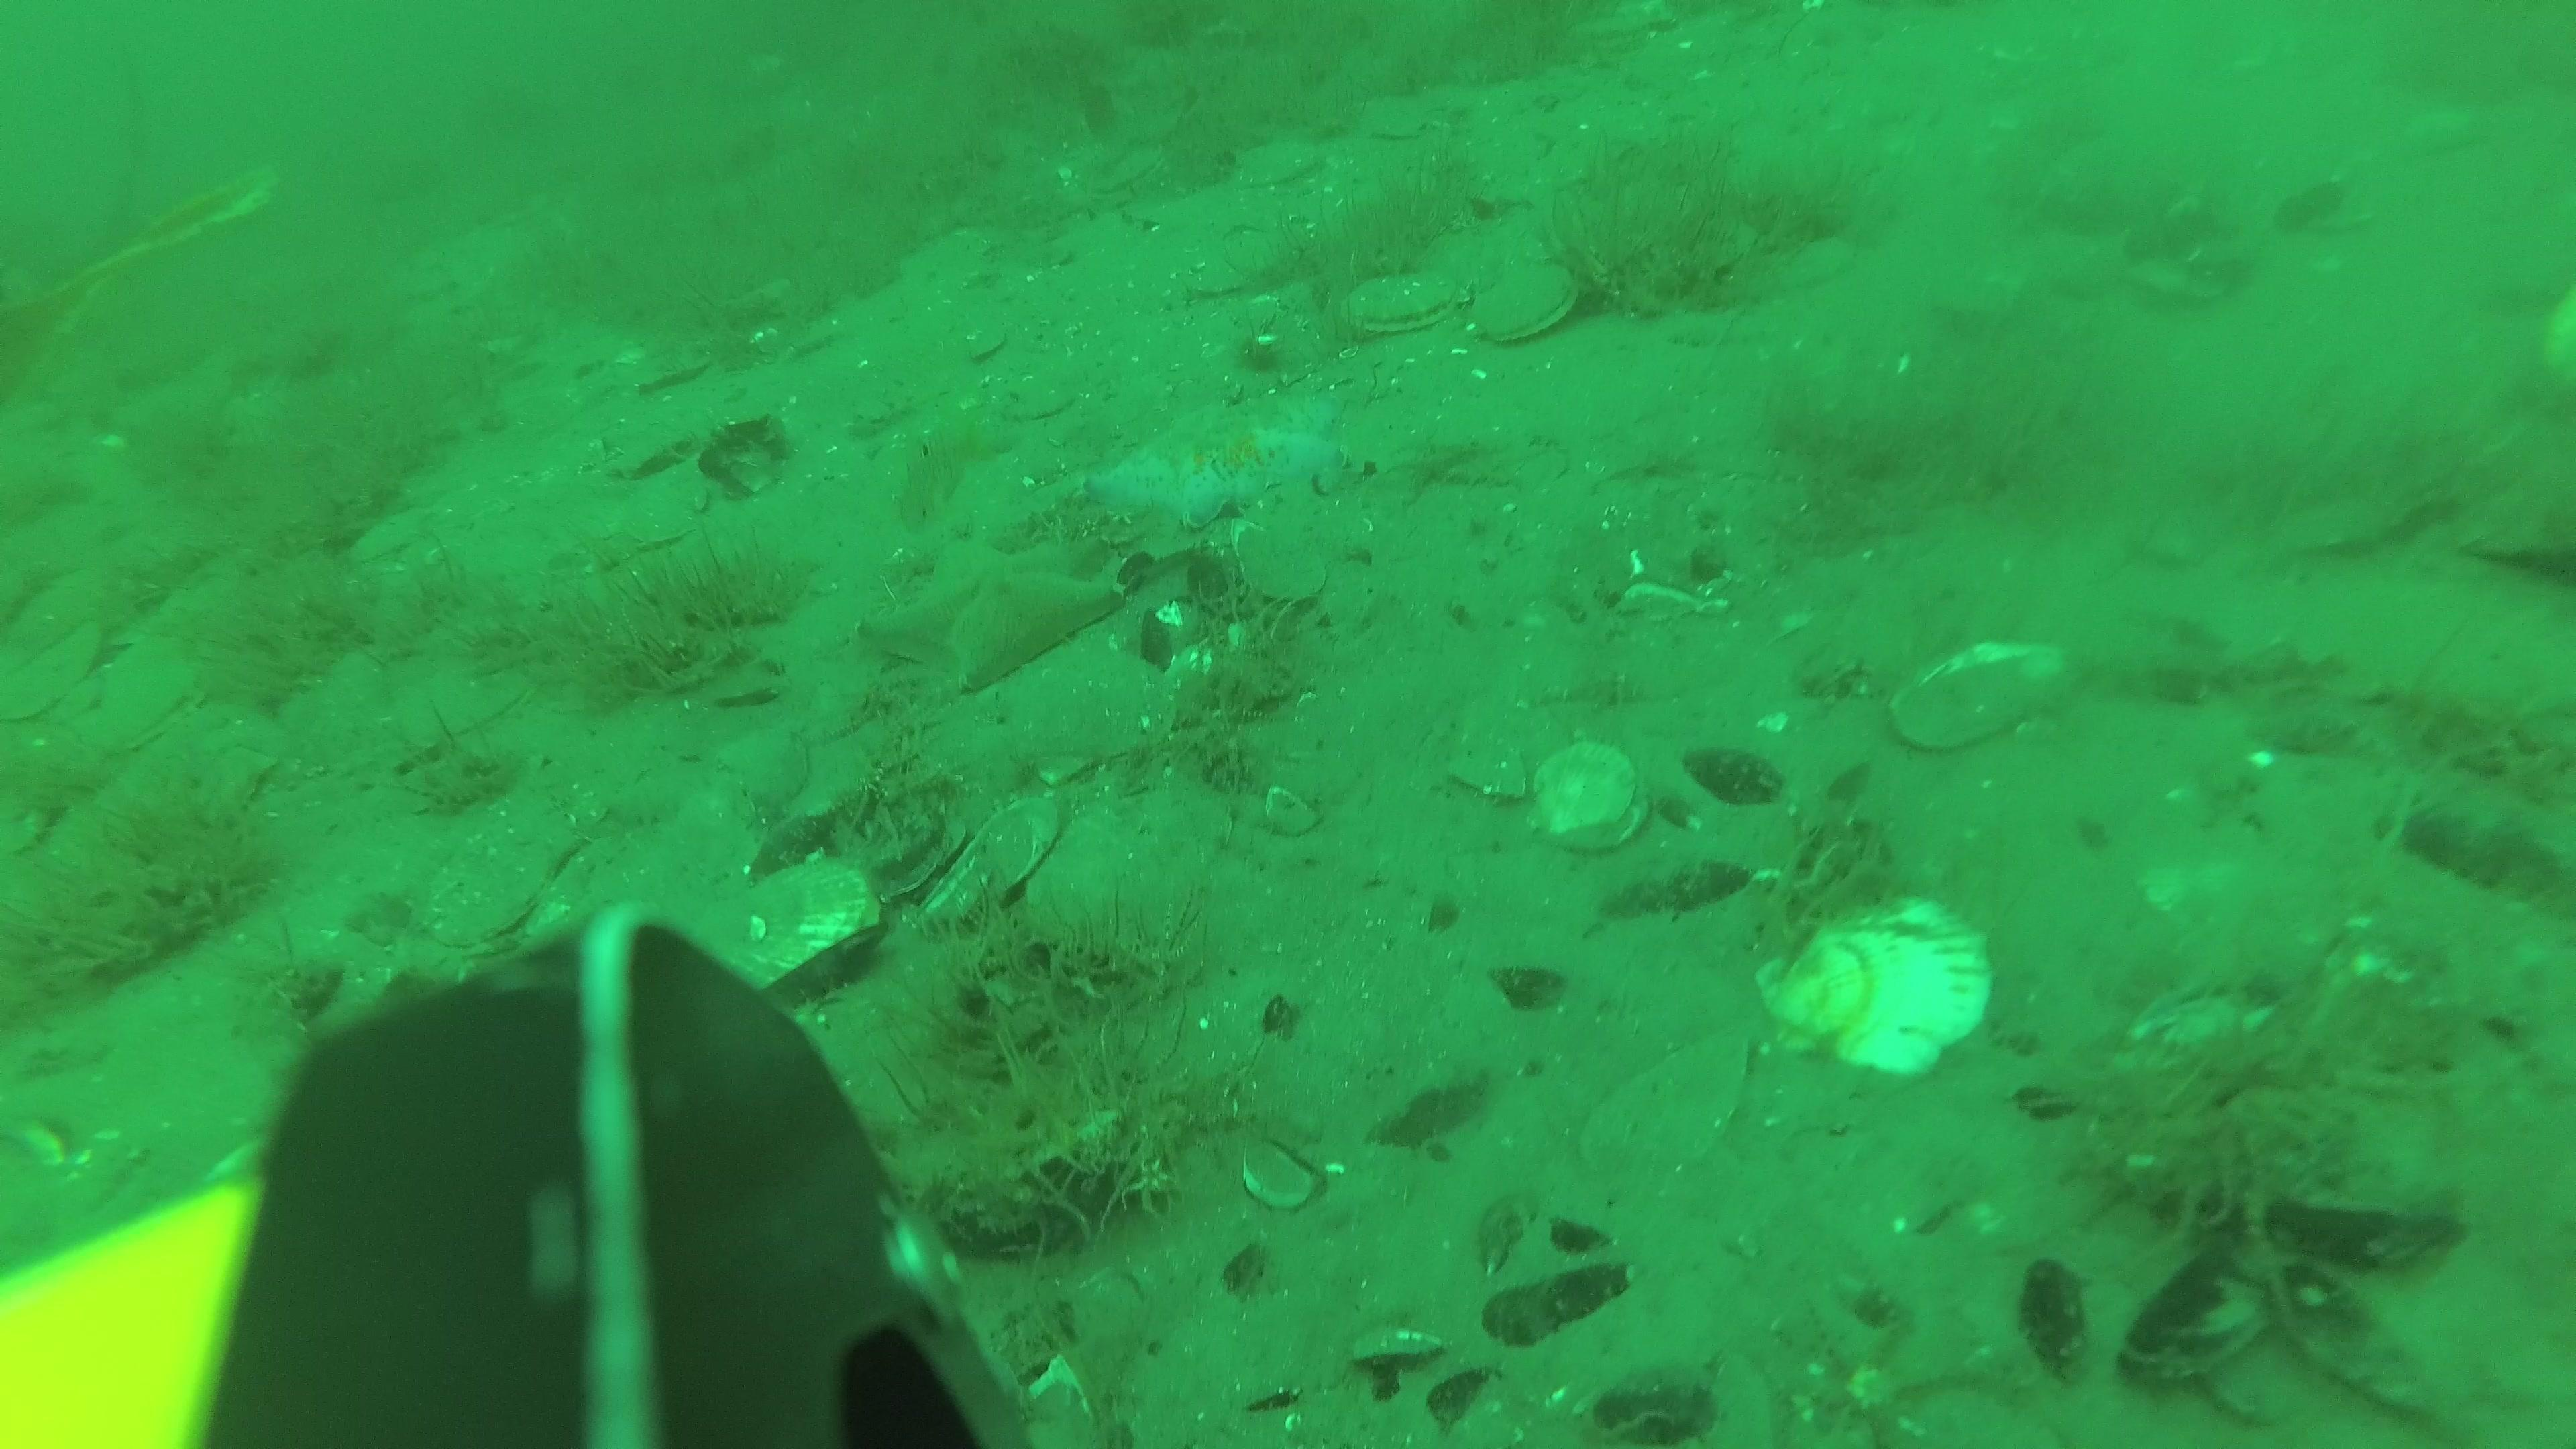scallop: (1748, 895, 1994, 1077), (669, 863, 885, 998), (1888, 640, 2070, 748), (425, 824, 554, 947), (1525, 740, 1649, 847), (1467, 255, 1582, 347), (1336, 269, 1453, 338)
starfish: (865, 518, 1118, 688), (1083, 379, 1345, 527)
